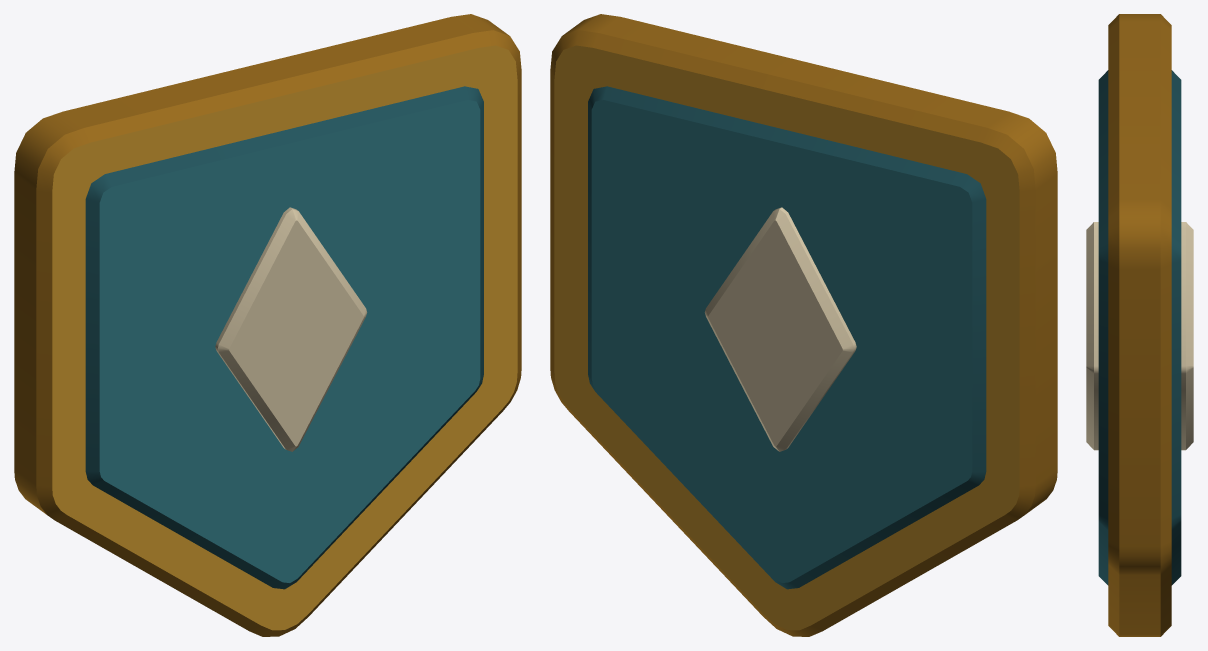
Rendered from Badge_13.glb.
The picture shows the model from 3 angles, left to right: view 1: azimuth 30°, elevation 25°; view 2: azimuth 150°, elevation 25°; view 3: azimuth 270°, elevation 25°; orthographic projection. The views are drawn at different scales.
Visible parts, largest first — view 1: Badge_13; view 2: Badge_13; view 3: Badge_13.
Part boxes in pixels (left/top/right/bottom): Badge_13: left=14, top=14, right=521, bottom=636; Badge_13: left=550, top=14, right=1057, bottom=636; Badge_13: left=1086, top=14, right=1193, bottom=636.
Size of the model in its own units: 2.16 by 2.37 by 0.44.
